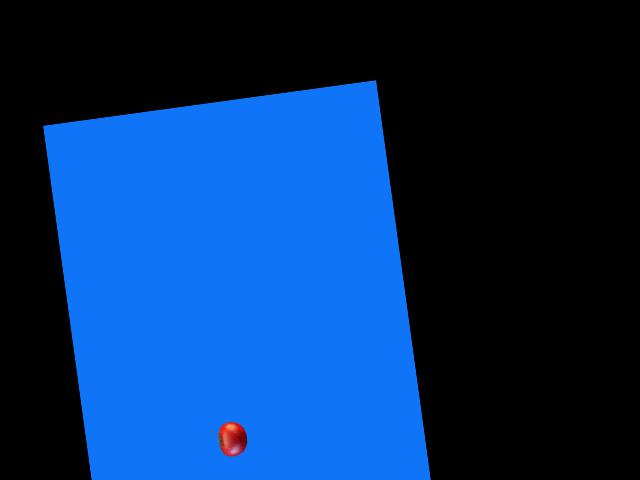tomato: (216, 420, 249, 458)
